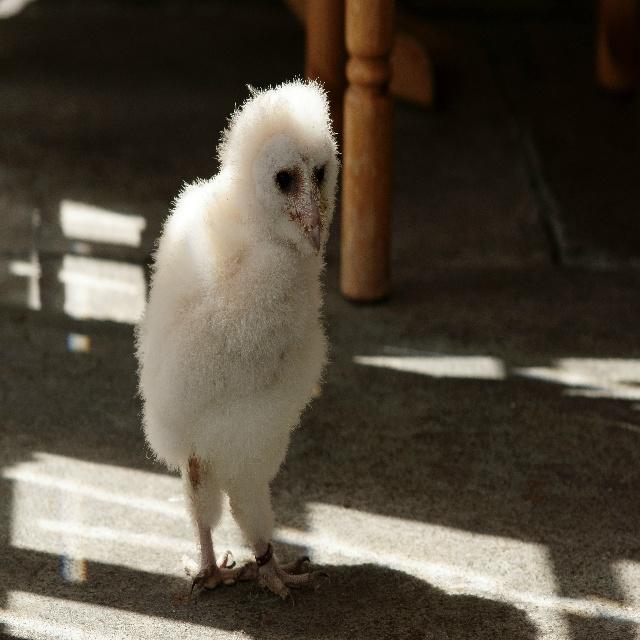Owl: (130, 77, 345, 594)
